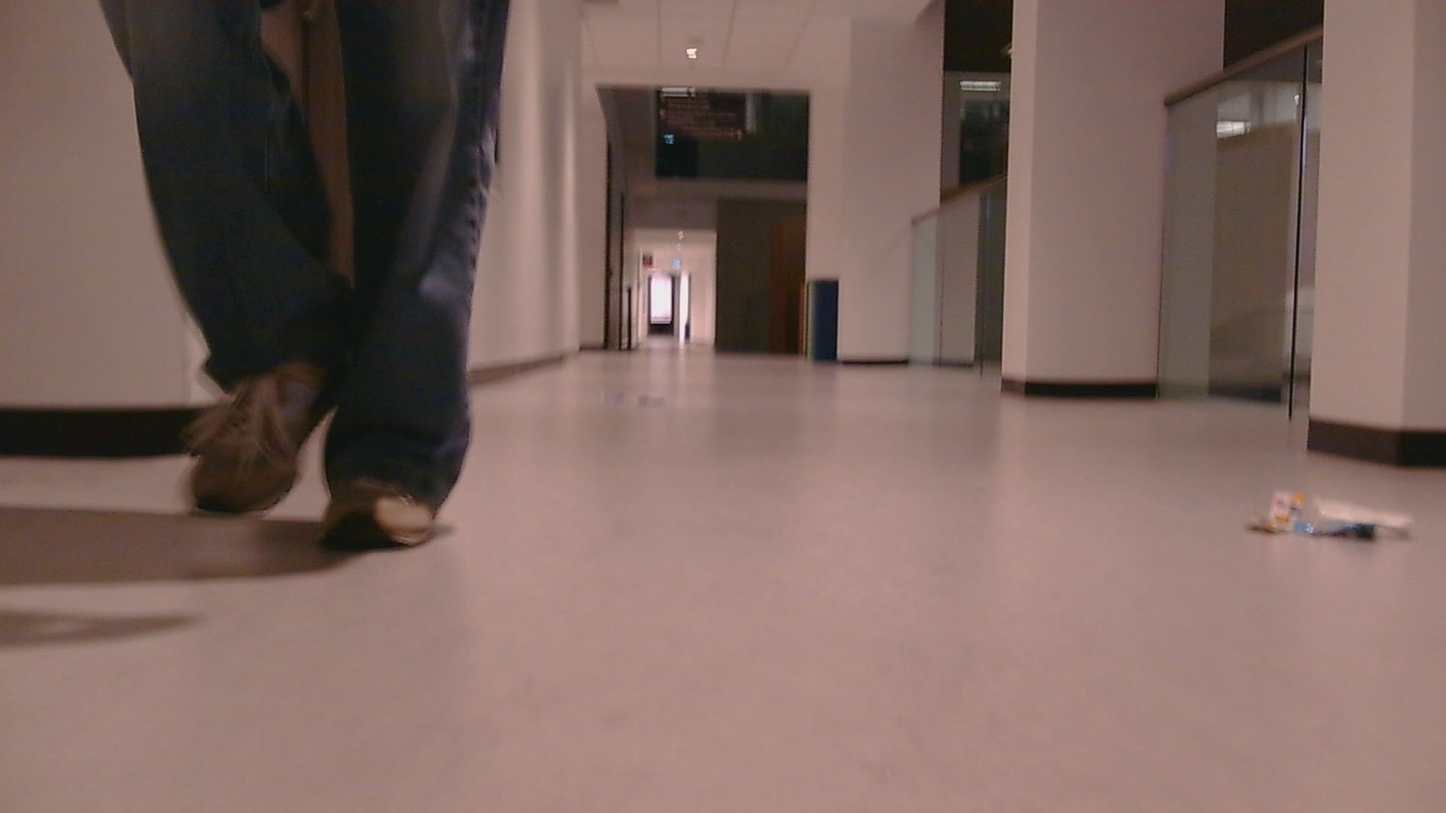carton: (1249, 479, 1417, 567)
